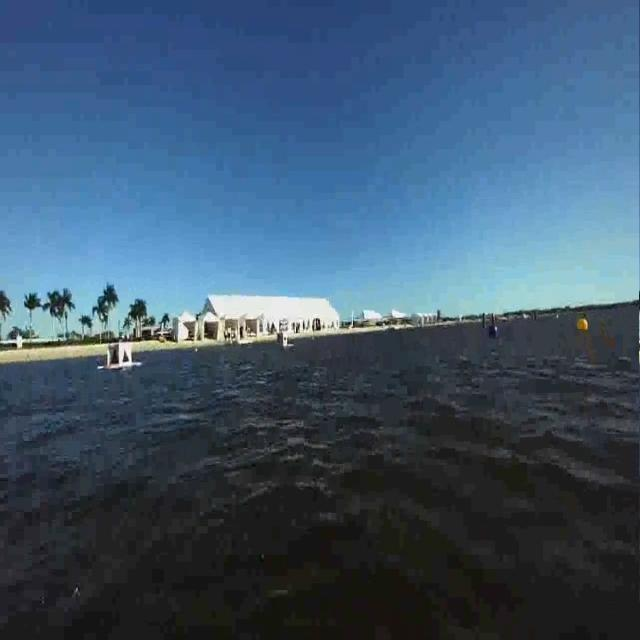blue-buoy: (487, 322, 501, 344)
yellow-buoy: (577, 320, 588, 335)
